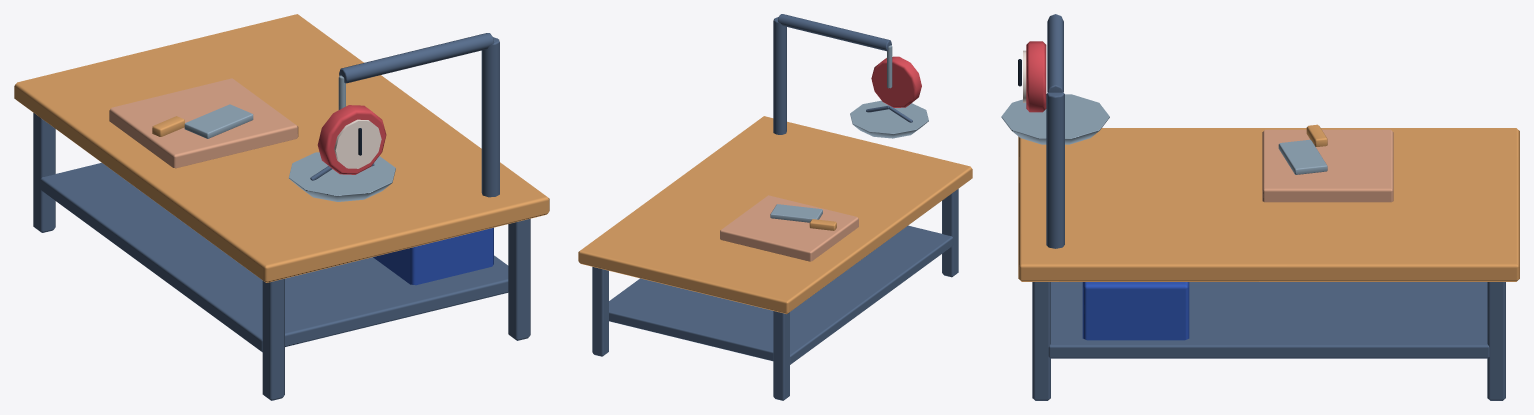
The model's file is fish_prep_station.glb.
3 views of the same model, side by side, from view 1: azimuth 30°, elevation 25°; view 2: azimuth 150°, elevation 25°; view 3: azimuth 270°, elevation 25° (orthographic). The views are drawn at different scales.
Parts seen in each view (by area): view 1: fish_prep_station; view 2: fish_prep_station; view 3: fish_prep_station.
Boxes of the visible parts, bbox=[...] form: fish_prep_station: bbox=[14, 14, 549, 400]; fish_prep_station: bbox=[578, 14, 972, 400]; fish_prep_station: bbox=[1001, 14, 1519, 400].
Size of the model in its own units: 2.12 by 2.16 by 3.35.
